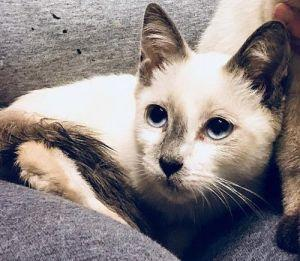siamese: (119, 1, 297, 224)
